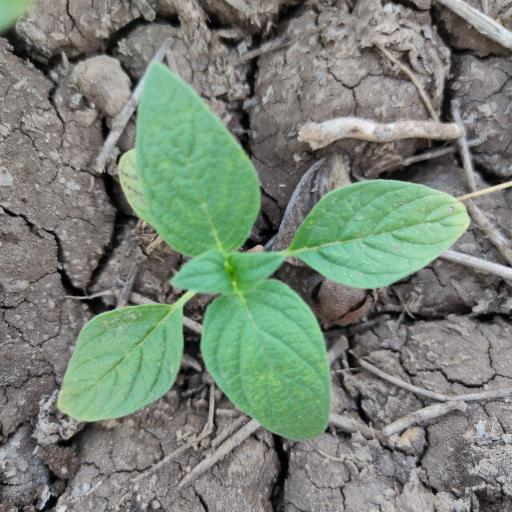crop: (37, 50, 483, 436)
